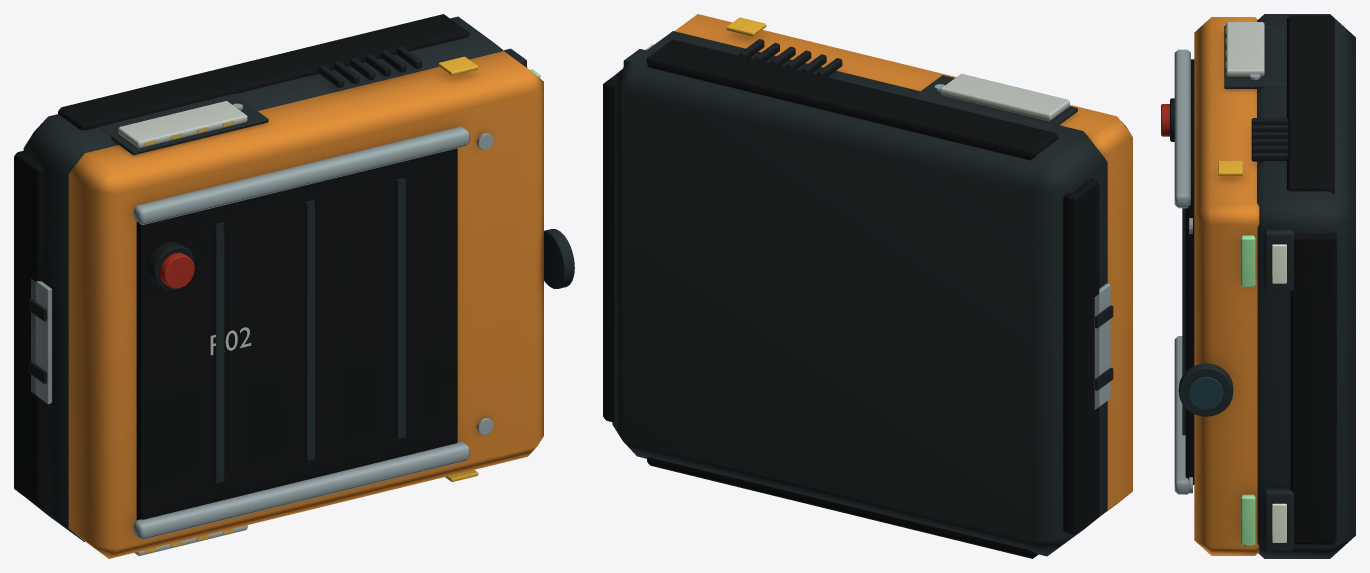
File: body_amber.obj
The picture shows the model from 3 angles, left to right: view 1: azimuth 30°, elevation 25°; view 2: azimuth 150°, elevation 25°; view 3: azimuth 270°, elevation 25°; orthographic projection. The views are drawn at different scales.
Parts seen in each view (by area): view 1: body_amber; view 2: body_amber; view 3: body_amber.
Part boxes in pixels (x1=…): body_amber: x1=14, y1=14, x2=574, y2=558; body_amber: x1=603, y1=14, x2=1132, y2=558; body_amber: x1=1161, y1=14, x2=1355, y2=558.
Size of the model in its own units: 0.3725 by 0.3061 by 0.143.
3 materials, 3 textured.
